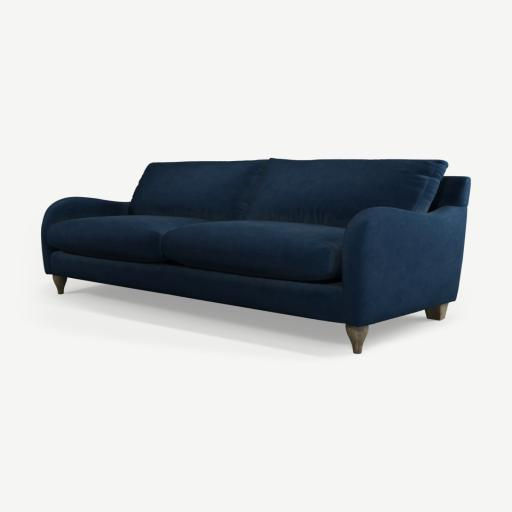back_cushion: (128, 158, 447, 228)
base: (51, 252, 344, 323)
left_arm: (340, 206, 467, 327)
legs: (346, 326, 368, 353), (52, 274, 67, 294), (426, 305, 447, 319)
right_arm: (41, 197, 129, 273)
seat_cushion: (46, 215, 344, 280)
two-seater: (0, 0, 511, 512)
